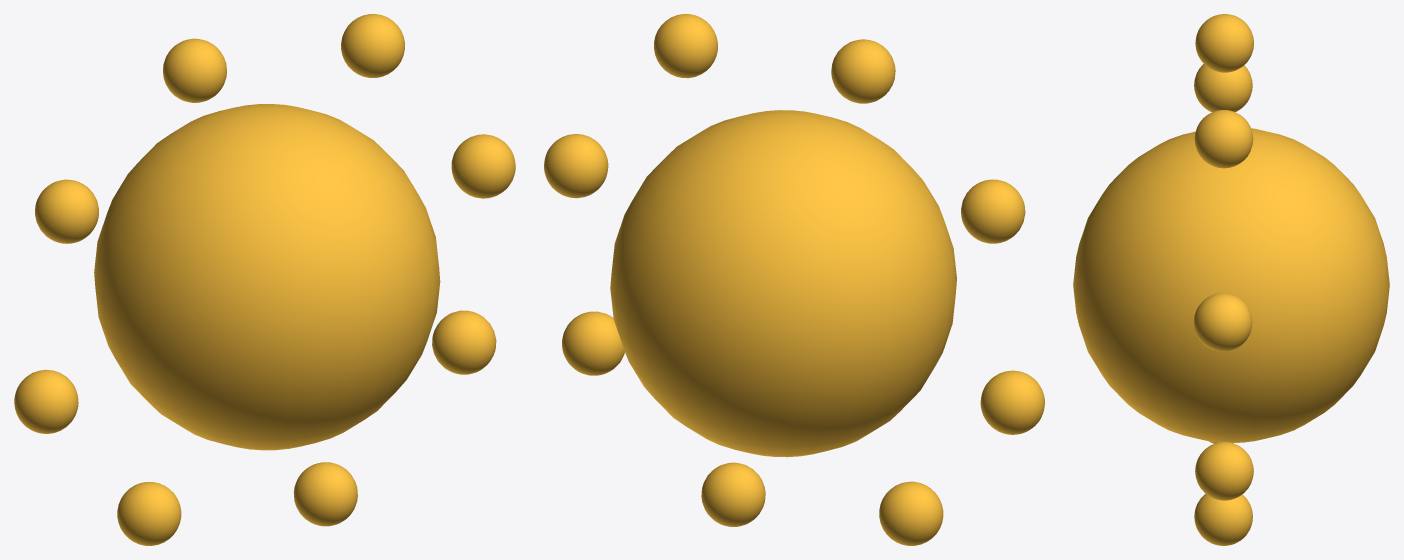
3 renders of one model, left to right at view 1: azimuth 30°, elevation 25°; view 2: azimuth 150°, elevation 25°; view 3: azimuth 270°, elevation 25°, orthographic. The views are drawn at different scales.
Parts seen in each view (by area): view 1: Sphere, Sphere.001; view 2: Sphere, Sphere.001; view 3: Sphere, Sphere.001.
Part boxes in pixels (<box>): Sphere: <box>94,104,440,450</box>; Sphere.001: <box>14,14,515,545</box>; Sphere: <box>610,110,956,457</box>; Sphere.001: <box>544,14,1044,545</box>; Sphere: <box>1073,128,1389,442</box>; Sphere.001: <box>1193,14,1253,545</box>.
Size of the model in its own units: 3.38 by 3.36 by 2.06.
